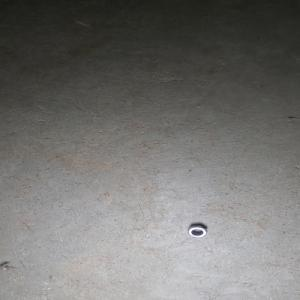Nut: (186, 224, 207, 237)
